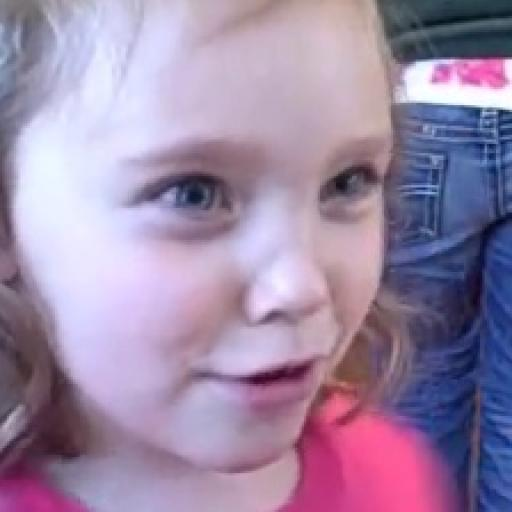Autism: (4, 17, 418, 484)
